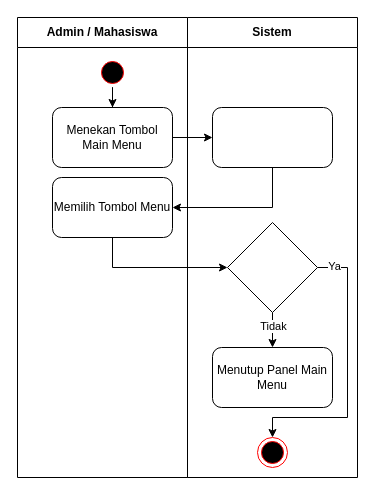
Some shapes in this 375 by 495 pixel diagram are drawn without their labels. The shapes that lost their labels are listed below. From the top down, each one's box as (x1, y1, x2, y2) in pixels, then its label:
(212, 106, 332, 168): Menampilkan Panel Main Menu
(226, 222, 318, 312): Menekan Tombol Main Menu?
